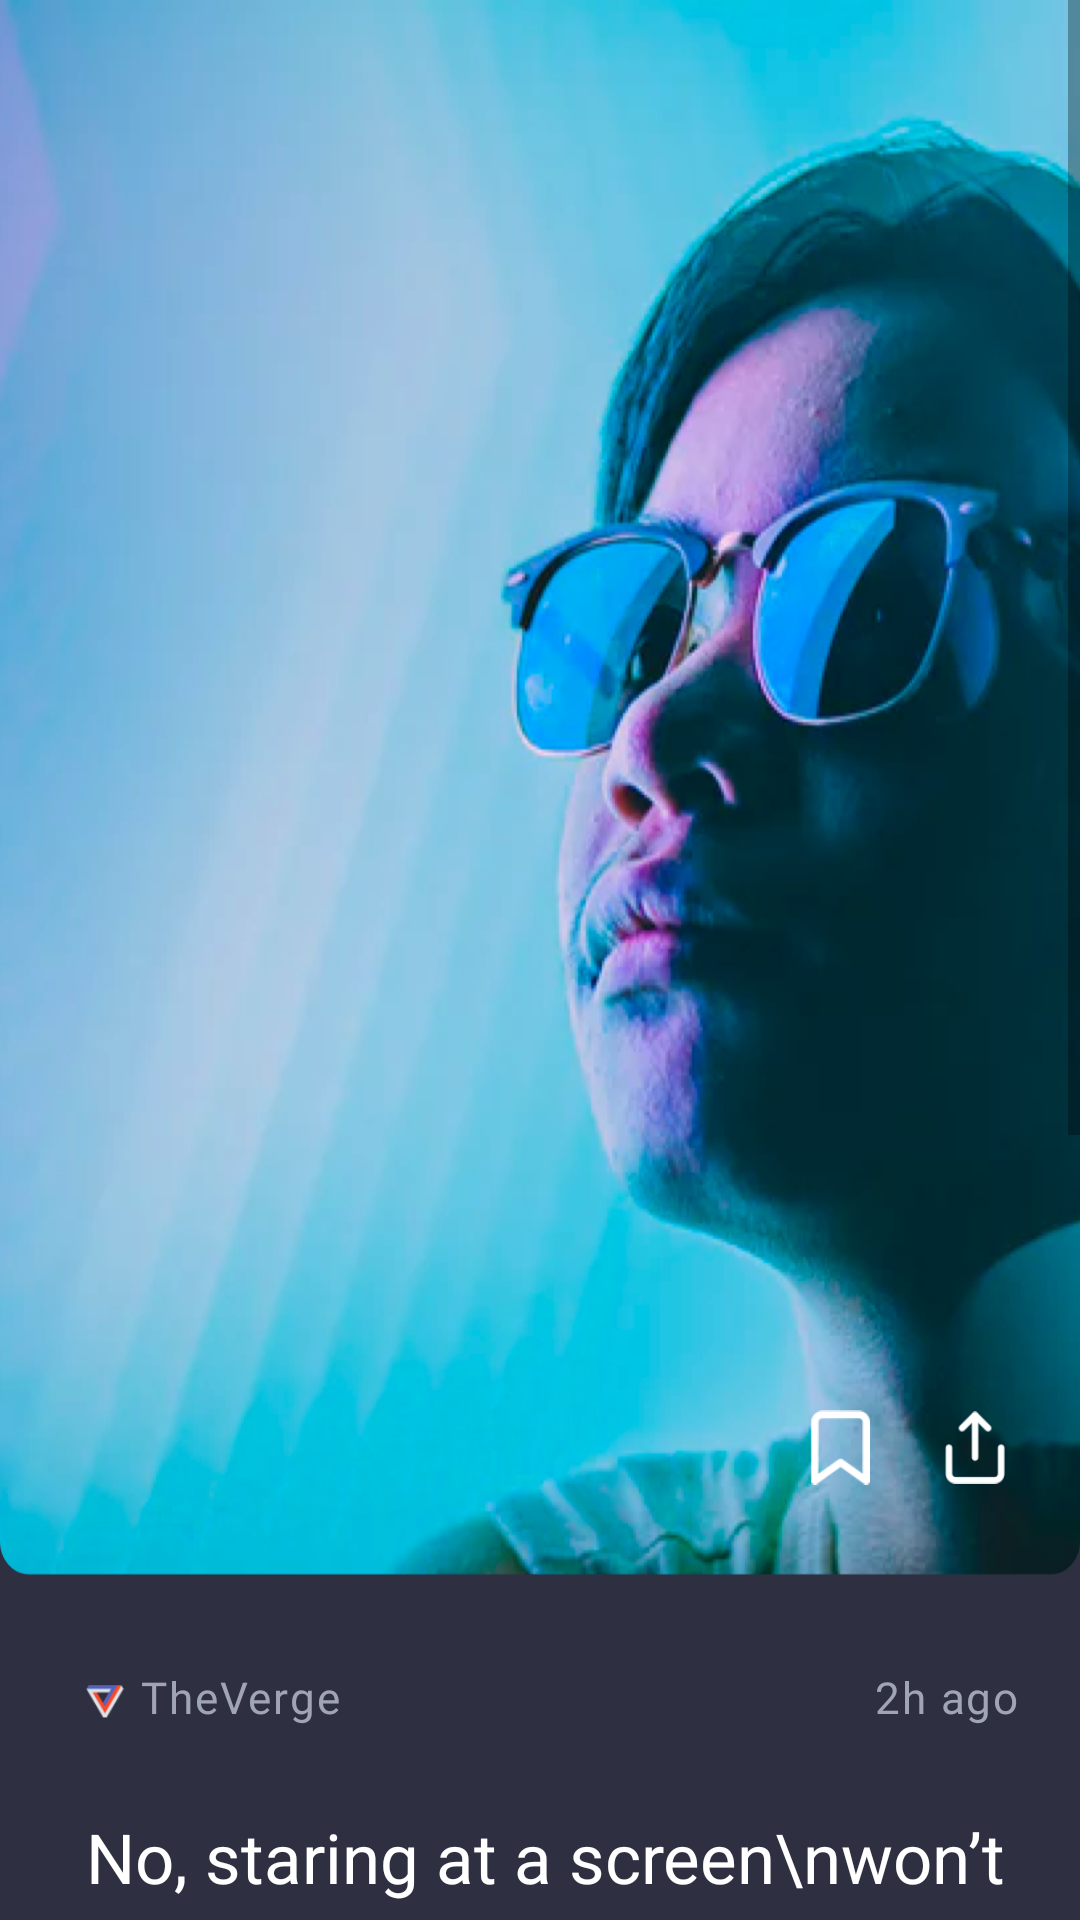

Where icons sit on this 1080×1920 app screen, as [x1=x1, y1=y1, x2=x2, y2=y2]:
bookmark: [x1=810, y1=1410, x2=870, y2=1485]
share: [x1=945, y1=1410, x2=1005, y2=1485]
